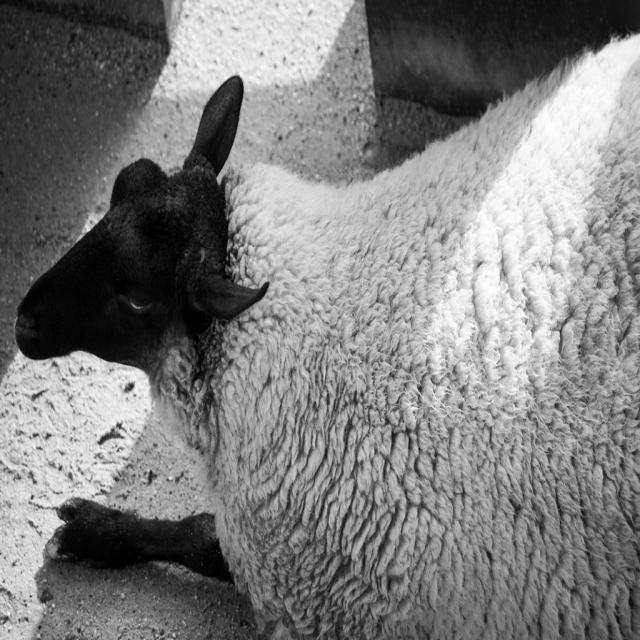Sheep: (12, 30, 640, 640)
